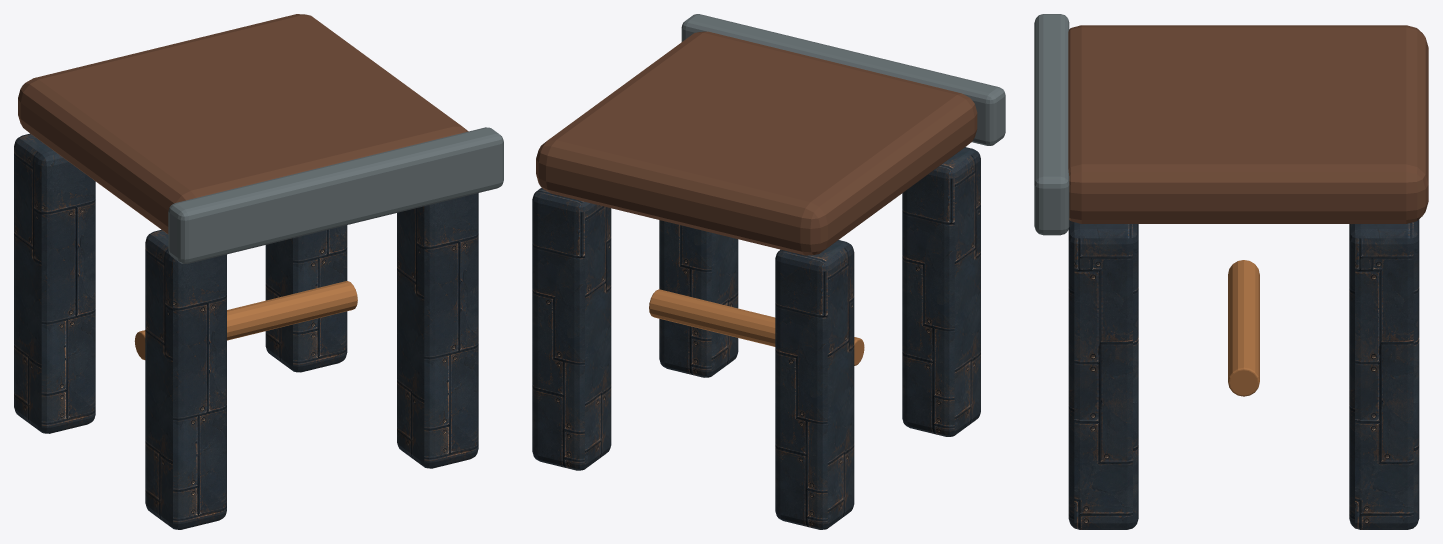
The model's file is APT_Table_Side_Service.glb.
The picture shows the model from 3 angles, left to right: view 1: azimuth 30°, elevation 25°; view 2: azimuth 150°, elevation 25°; view 3: azimuth 270°, elevation 25°; orthographic projection. The views are drawn at different scales.
Parts seen in each view (by area): view 1: APT_Table_Side_Service_Top, APT_Table_Side_Service_Leg_-0.24359999999999998_0.2203999999, APT_Table_Side_Service_Leg_-0.24359999999999998_-0.220399999, APT_Table_Side_Service_Edge, APT_Table_Side_Service_Leg_0.24359999999999998_-0.2203999999, APT_Table_Side_Service_Leg_0.24359999999999998_0.22039999999, APT_Table_Side_Service_Brace; view 2: APT_Table_Side_Service_Top, APT_Table_Side_Service_Leg_-0.24359999999999998_0.2203999999, APT_Table_Side_Service_Leg_0.24359999999999998_0.22039999999, APT_Table_Side_Service_Leg_-0.24359999999999998_-0.220399999, APT_Table_Side_Service_Leg_0.24359999999999998_-0.2203999999, APT_Table_Side_Service_Edge, APT_Table_Side_Service_Brace; view 3: APT_Table_Side_Service_Top, APT_Table_Side_Service_Leg_0.24359999999999998_0.22039999999, APT_Table_Side_Service_Leg_0.24359999999999998_-0.2203999999, APT_Table_Side_Service_Edge, APT_Table_Side_Service_Brace.
Boxes of the visible parts, <box> form: APT_Table_Side_Service_Top: <box>18,14,468,234</box>; APT_Table_Side_Service_Leg_-0.24359999999999998_0.2203999999: <box>14,133,95,433</box>; APT_Table_Side_Service_Leg_-0.24359999999999998_-0.220399999: <box>145,229,226,529</box>; APT_Table_Side_Service_Edge: <box>168,127,503,263</box>; APT_Table_Side_Service_Leg_0.24359999999999998_-0.2203999999: <box>397,193,478,468</box>; APT_Table_Side_Service_Leg_0.24359999999999998_0.22039999999: <box>265,225,347,372</box>; APT_Table_Side_Service_Brace: <box>134,281,357,359</box>; APT_Table_Side_Service_Top: <box>536,31,977,255</box>; APT_Table_Side_Service_Leg_-0.24359999999999998_0.2203999999: <box>775,240,854,529</box>; APT_Table_Side_Service_Leg_0.24359999999999998_0.22039999999: <box>532,187,611,470</box>; APT_Table_Side_Service_Leg_-0.24359999999999998_-0.220399999: <box>902,147,980,436</box>; APT_Table_Side_Service_Leg_0.24359999999999998_-0.2203999999: <box>659,220,738,377</box>; APT_Table_Side_Service_Edge: <box>681,14,1005,145</box>; APT_Table_Side_Service_Brace: <box>649,289,864,365</box>; APT_Table_Side_Service_Top: <box>1068,25,1428,223</box>; APT_Table_Side_Service_Leg_0.24359999999999998_0.22039999999: <box>1349,219,1419,529</box>; APT_Table_Side_Service_Leg_0.24359999999999998_-0.2203999999: <box>1068,220,1138,529</box>; APT_Table_Side_Service_Edge: <box>1034,14,1069,235</box>; APT_Table_Side_Service_Brace: <box>1228,260,1259,396</box>.
Bounding box in the file's own units: 0.63 × 0.62 × 0.6191.
4 materials, 1 textured.
